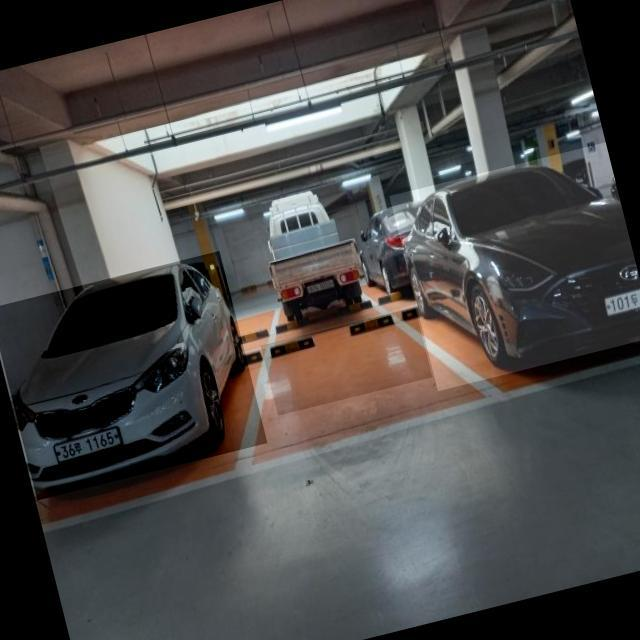empty: (260, 307, 432, 415)
occupied: (0, 250, 267, 500), (389, 141, 640, 390), (253, 179, 374, 327)
